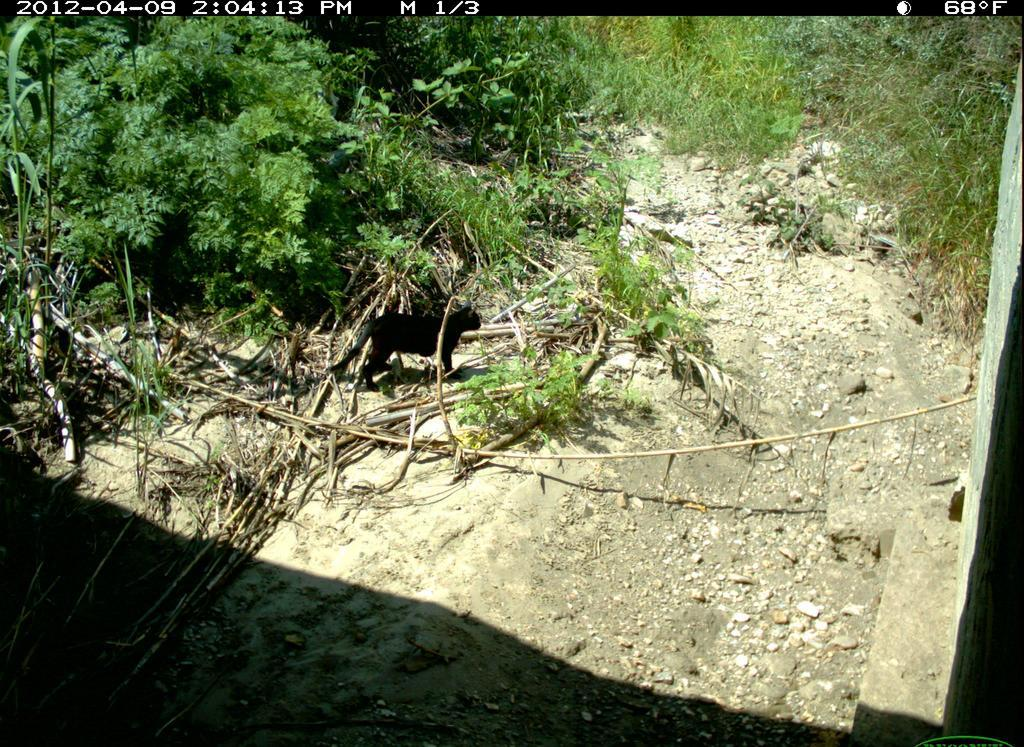cat: (321, 295, 496, 413)
